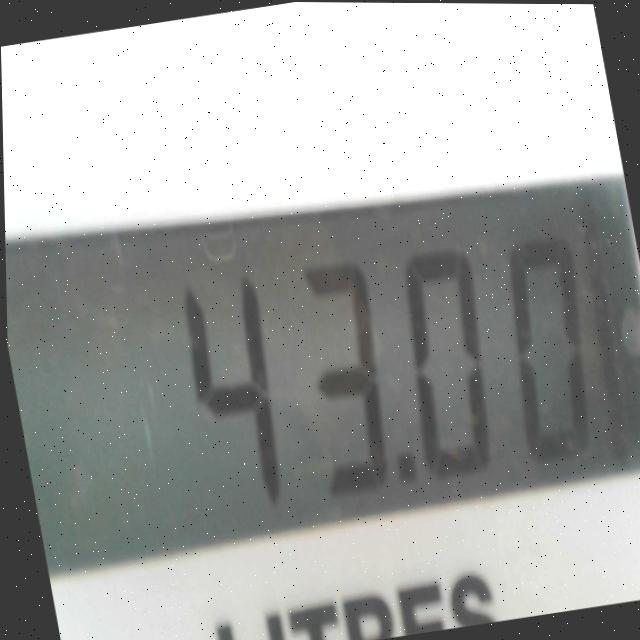.: (375, 429, 433, 508)
0: (375, 223, 523, 503), (476, 207, 625, 485)
3: (269, 237, 409, 511)
4: (158, 258, 307, 536)
